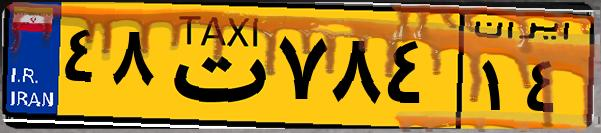1: (475, 38, 525, 113)
4: (385, 28, 445, 110), (57, 26, 110, 100), (525, 38, 570, 115)
7: (270, 28, 330, 110)
8: (330, 28, 385, 110), (110, 28, 158, 98)
ت: (158, 12, 270, 120)
